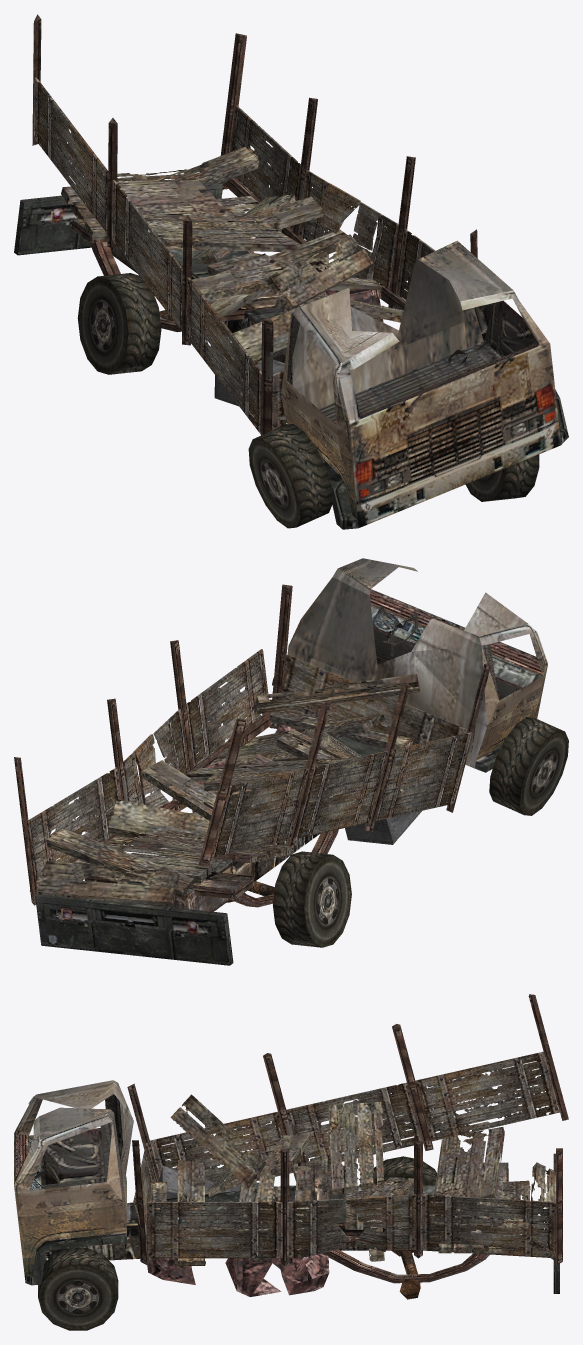
File: etrck1x.glb
3 renders of one model, top to bottom at view 1: azimuth 30°, elevation 25°; view 2: azimuth 150°, elevation 25°; view 3: azimuth 270°, elevation 25°, orthographic. The views are drawn at different scales.
Parts seen in each view (by area): view 1: _etrck1x; view 2: _etrck1x; view 3: _etrck1x.
Part boxes in pixels (<box>): _etrck1x: <box>14,14,568,529</box>; _etrck1x: <box>14,558,568,965</box>; _etrck1x: <box>14,994,568,1330</box>.
Bounding box in the file's own units: 3.74 × 4.14 × 8.
Materials: 2 (2 with a texture image).
